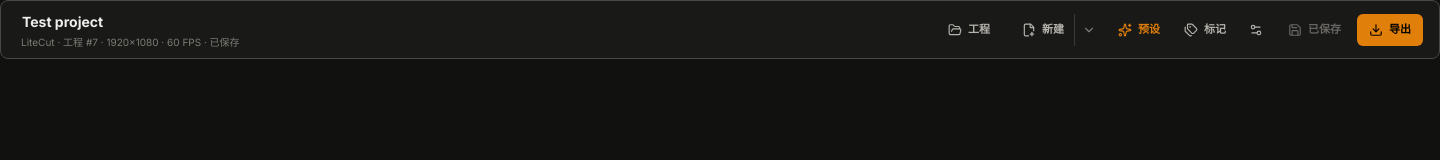
Test: LiteCutToolbar › shows project templates without clipping the menu
The width and height of the screenshot is (1440, 160).
Click the button named "从模板创建".
click(1088, 30)  # box [1074,14,1102,46]
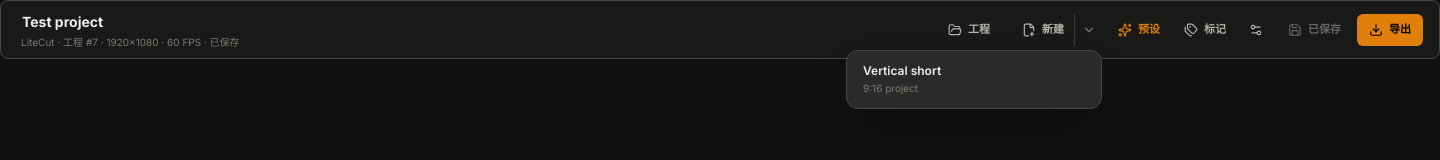
Check: the text "Vertical short" is shown, box [863,62,941,78]
Check: the text "9:16 project" is shown, box [863,82,918,94]
